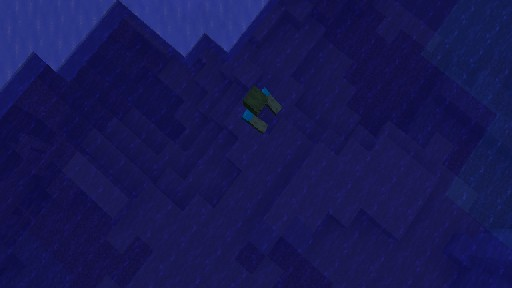zombie: (240, 84, 282, 133)
